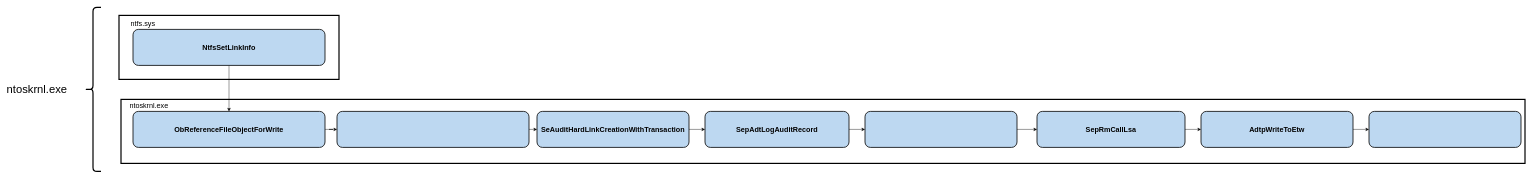
Image size: 1532x179. Some labels were removed from this diagram. The shapes that lost their labels are listed below. From the top down, each one's box as (x1, y1, x2, y2) in pixels, then its label:
(336, 111, 529, 148): SeAuditHardLinkCreation
(864, 111, 1017, 148): SepQueueWorkItem
(1368, 111, 1521, 148): EtwWriteKMSecurityEvent
